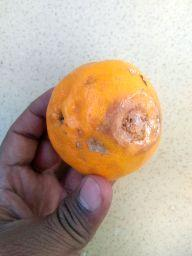Unripe: (46, 61, 162, 179)
